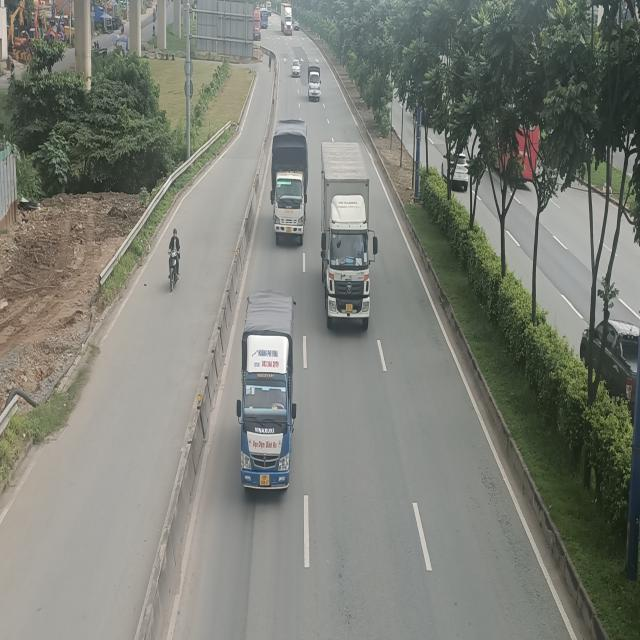car: (291, 59, 301, 79)
coach: (260, 7, 268, 29)
container: (280, 3, 292, 36), (254, 11, 261, 42)
truck: (236, 290, 296, 495), (321, 144, 377, 334), (271, 120, 309, 246), (308, 62, 321, 101)
